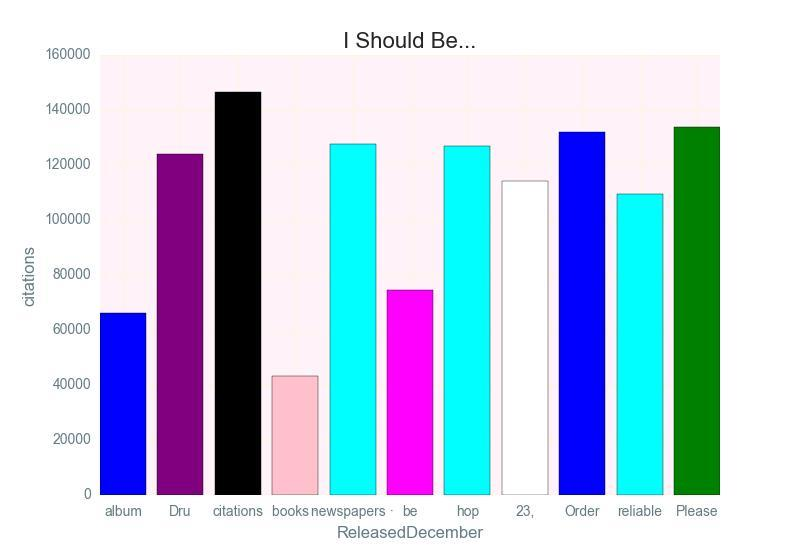axis: (23, 49, 91, 502)
rectangle: (215, 92, 261, 495), (674, 127, 720, 495), (559, 132, 605, 495), (330, 144, 376, 495), (444, 146, 490, 495), (158, 154, 204, 495), (502, 181, 548, 495), (616, 194, 662, 495), (387, 290, 433, 495), (100, 313, 146, 495), (272, 376, 318, 495)
